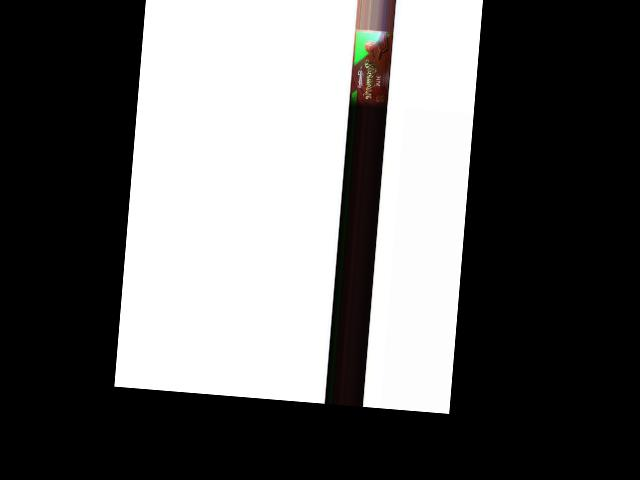chocolate: (350, 30, 393, 110)
